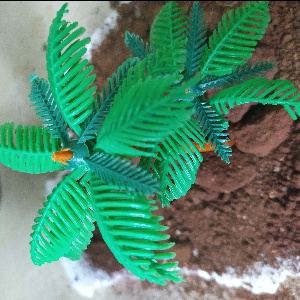plant: (5, 18, 292, 248)
